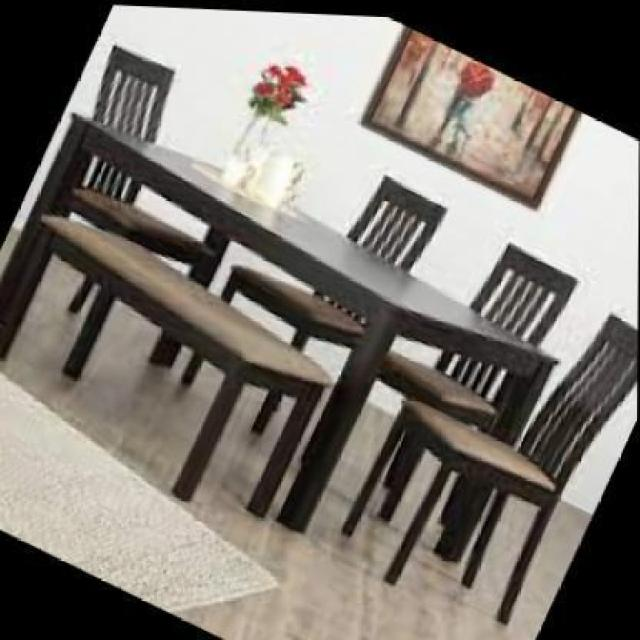tables: (65, 112, 560, 538)
